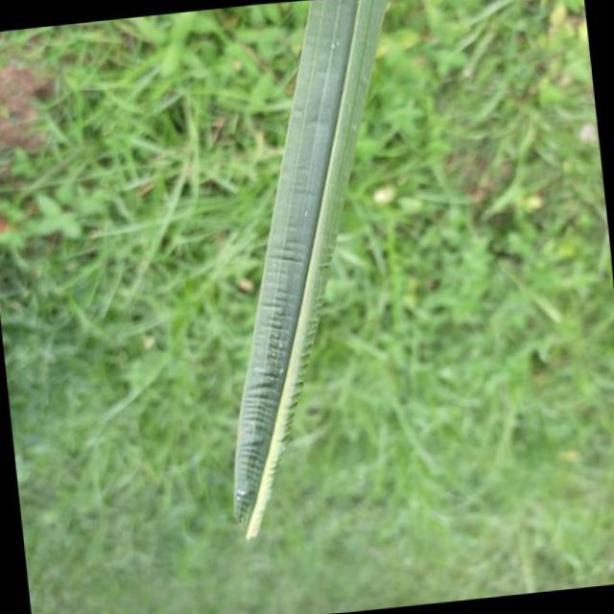Boron: (238, 0, 393, 545)
